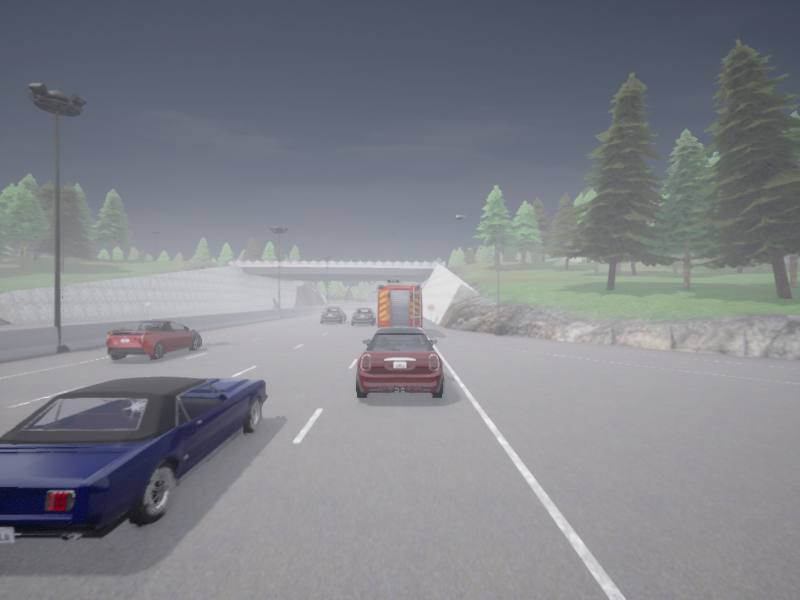vehicle: (0, 377, 267, 541), (356, 326, 443, 398), (106, 320, 201, 359), (378, 278, 422, 327), (352, 308, 376, 324), (321, 307, 346, 322)
